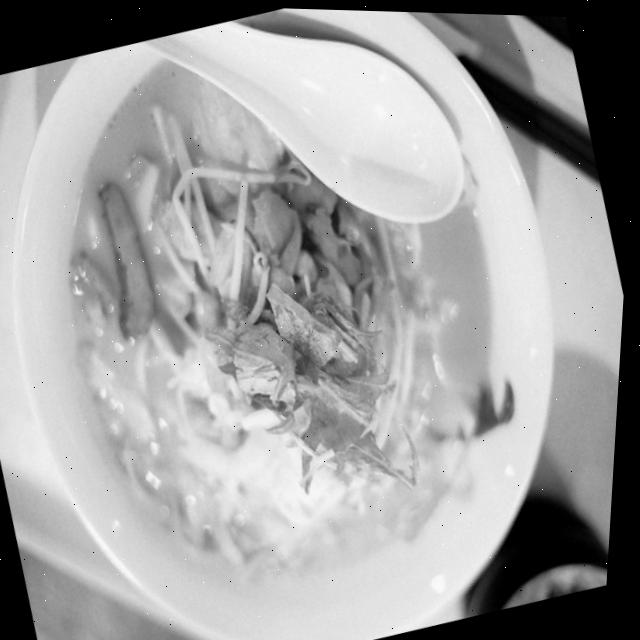鸡蛋料理: (346, 8, 636, 329)
